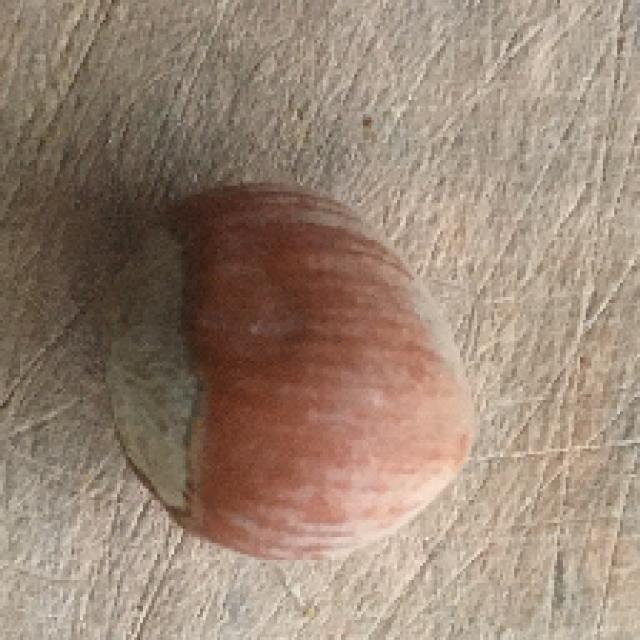qualityHazelnut: (86, 168, 480, 573)
